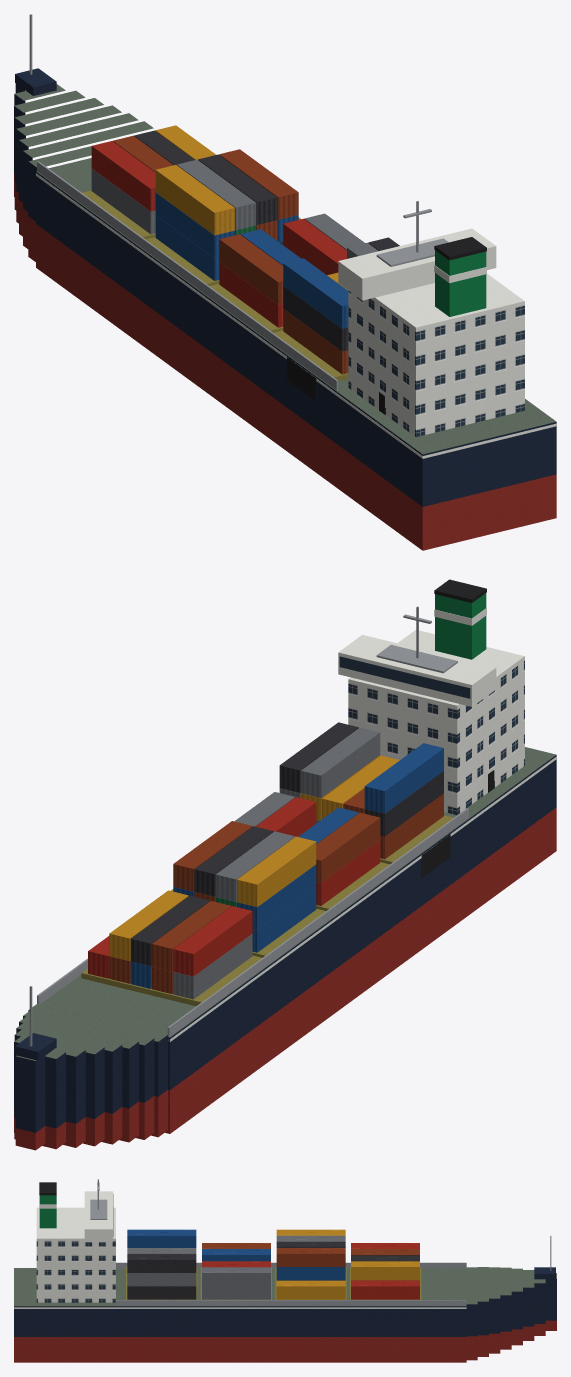
The model's file is cargo_ship.glb.
3 views of the same model, one above another, from view 1: azimuth 30°, elevation 25°; view 2: azimuth 150°, elevation 25°; view 3: azimuth 270°, elevation 25° (orthographic). The views are drawn at different scales.
Parts seen in each view (by area): view 1: cargo_ship; view 2: cargo_ship; view 3: cargo_ship.
Boxes of the visible parts, bbox=[...] form: cargo_ship: bbox=[14, 14, 556, 550]; cargo_ship: bbox=[14, 579, 556, 1150]; cargo_ship: bbox=[14, 1179, 556, 1362].
Bounding box in the file's own units: 16.07 × 32 × 96.02.
18 materials, 18 textured.
